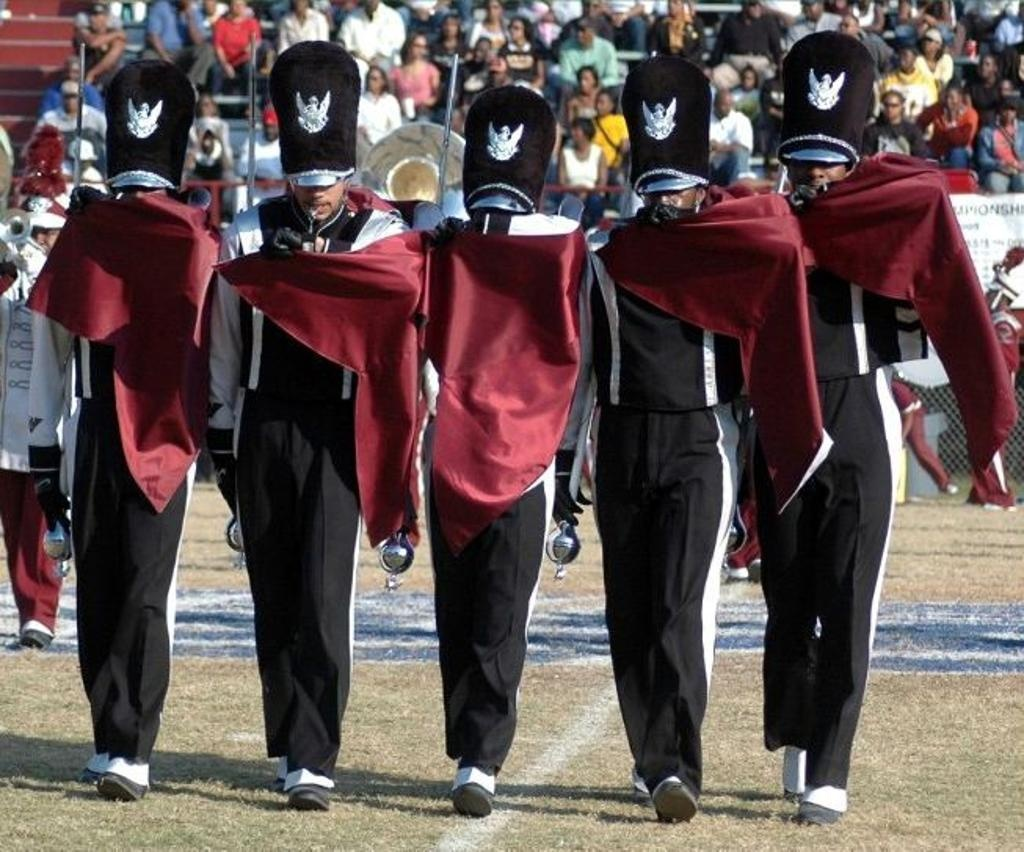human_face: (293, 160, 345, 219), (645, 171, 697, 229), (791, 154, 845, 202), (26, 226, 60, 262), (366, 68, 382, 90), (577, 70, 593, 92), (884, 97, 900, 118), (63, 94, 79, 114), (595, 94, 611, 114), (944, 89, 960, 109), (803, 3, 821, 20), (64, 63, 80, 81), (263, 122, 277, 142), (412, 36, 426, 56), (475, 40, 489, 60), (898, 48, 912, 68), (744, 1, 762, 16), (88, 12, 104, 28), (841, 18, 857, 34), (198, 98, 212, 116), (440, 22, 458, 36), (510, 22, 524, 40), (586, 0, 600, 18), (576, 30, 592, 45), (980, 56, 992, 76), (922, 38, 936, 54), (742, 71, 754, 89), (488, 2, 500, 20), (1001, 106, 1015, 120), (202, 0, 216, 14), (570, 126, 582, 142), (230, 1, 244, 14), (669, 0, 681, 15), (718, 98, 730, 112), (294, 2, 304, 12)
